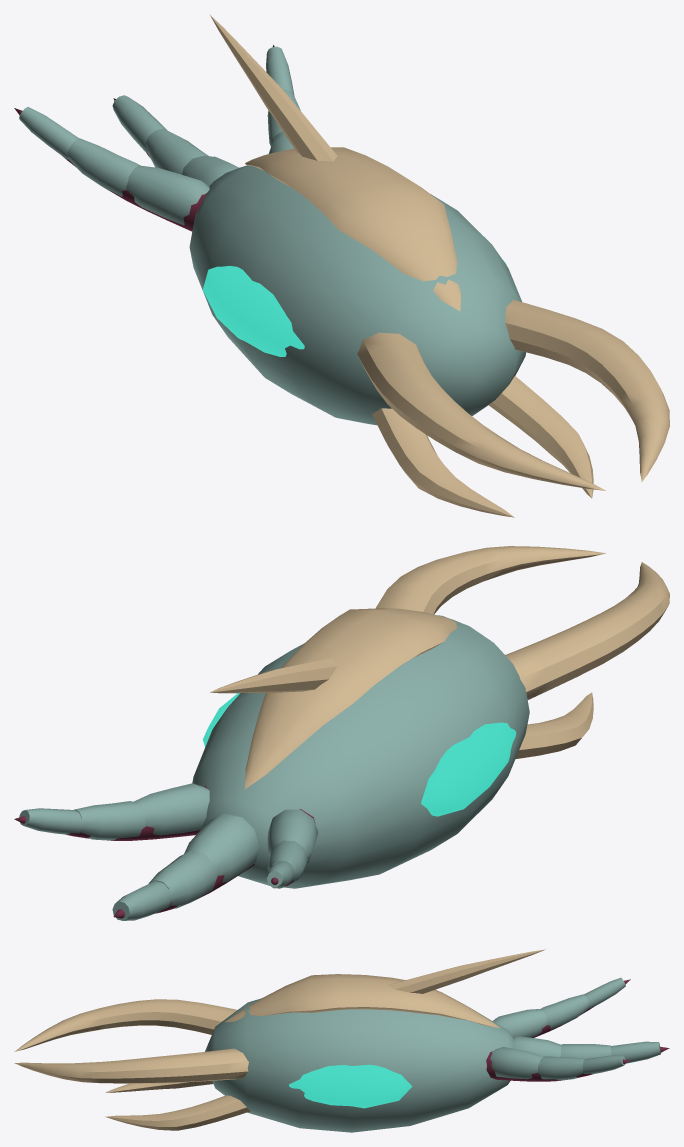
File: brood.glb
3 views of the same model, one above another, from view 1: azimuth 30°, elevation 25°; view 2: azimuth 150°, elevation 25°; view 3: azimuth 270°, elevation 25° (orthographic). The views are drawn at different scales.
Parts seen in each view (by area): view 1: brood; view 2: brood; view 3: brood.
Part boxes in pixels (x1,y1,x2,y2): brood: (14, 15, 669, 517); brood: (14, 546, 669, 920); brood: (14, 949, 669, 1132).
Bounding box in the file's own units: 1.5 × 1.48 × 5.05.
